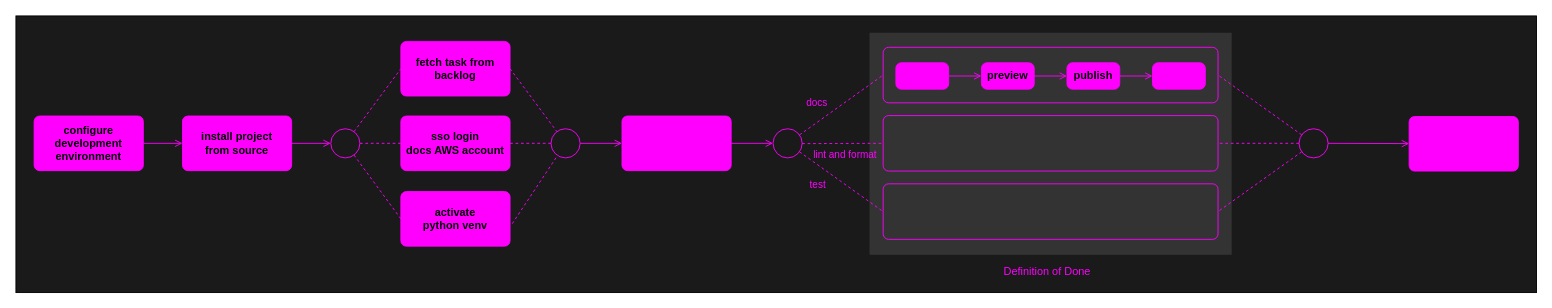
Image size: 1552x308. Some labels were removed from this diagram. Each missing label, with the centre of its shape:
"branch" goes at pixel 676 143.
"build" goes at pixel 922 75.
"Pull Request" goes at pixel 1463 143.
"stop preview" goes at pixel 1178 75.
